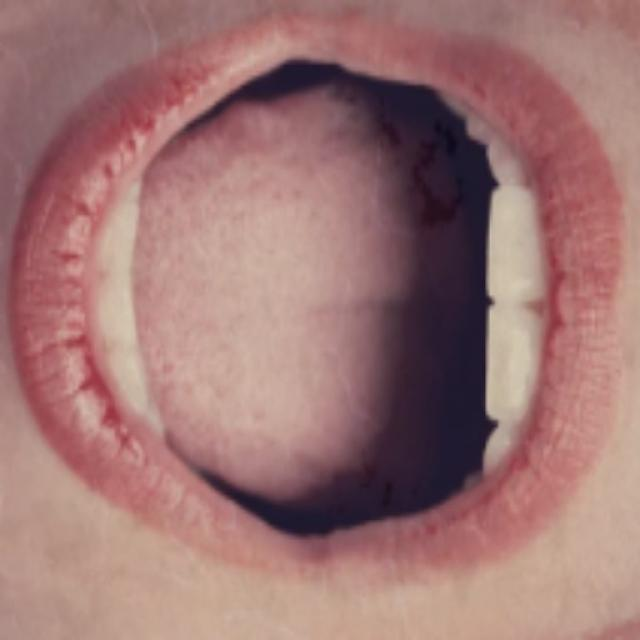processing_area: (138, 82, 424, 504)
